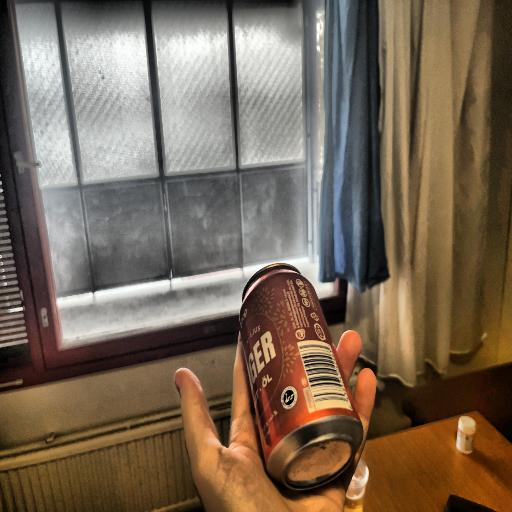coop_larger: (235, 258, 354, 481)
